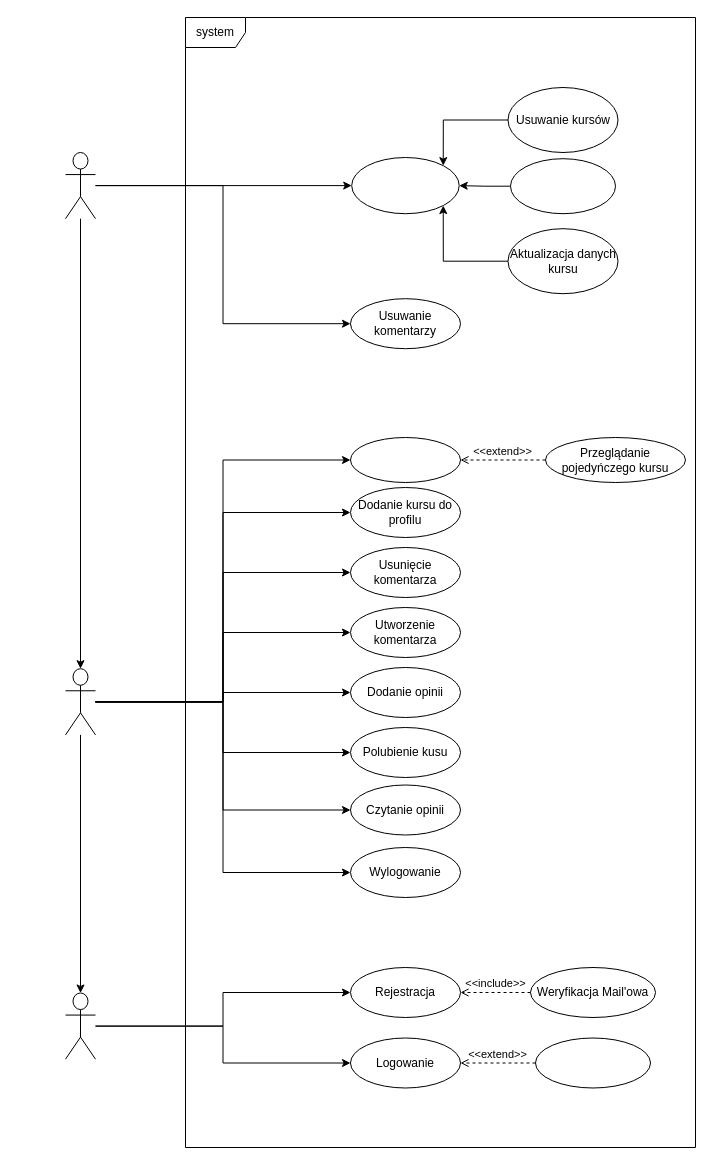
The diagram is 713 pixels wide and 1165 high, and some of its shapes have lost their labels. The centre of each missing label's shape, as x and y in pixels:
"Admin" belongs at pixel 80 185.
"Dodawanie kursów" belongs at pixel 563 186.
"Przeglądanie kursów" belongs at pixel 405 459.
"Przypomnij hasło" belongs at pixel 592 1062.
"Użytkownik" belongs at pixel 80 1025.
"Zalogowany użytkownik" belongs at pixel 80 701.
"Zarządzenie kursami" belongs at pixel 405 185.
